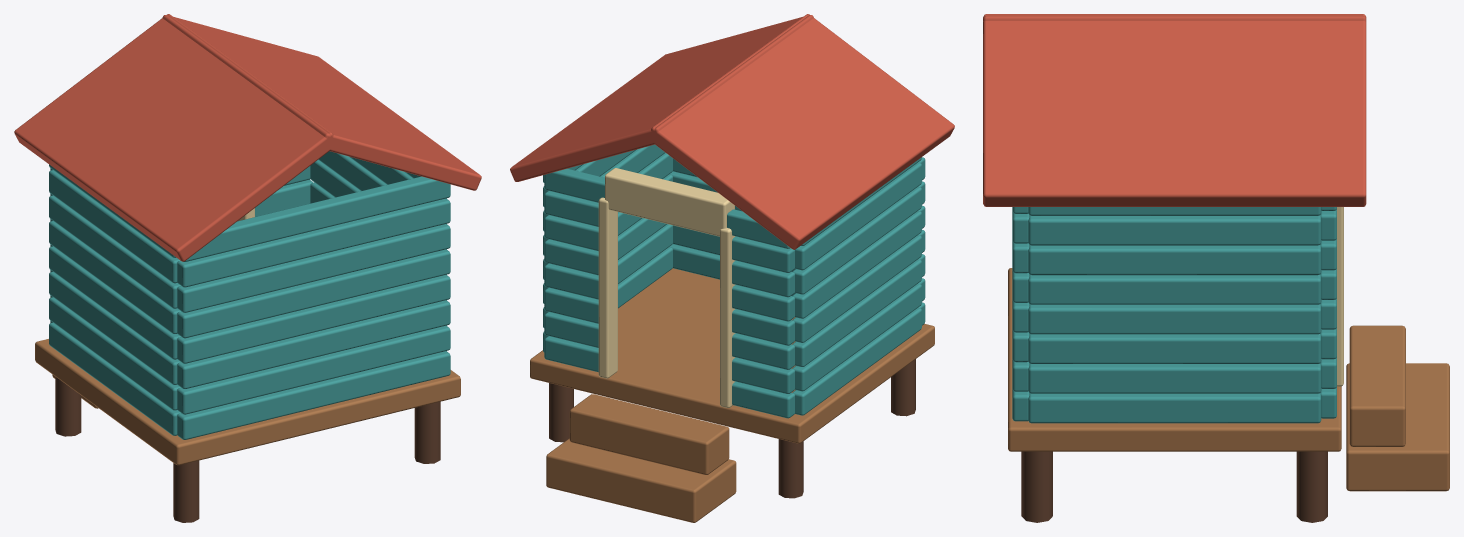
File: beach-hut.glb
The picture shows the model from 3 angles, left to right: view 1: azimuth 30°, elevation 25°; view 2: azimuth 150°, elevation 25°; view 3: azimuth 270°, elevation 25°; orthographic projection. The views are drawn at different scales.
Visible parts, largest first — view 1: roof--0.43, roof-0.43, floor, back-board-5, back-board-2, back-board-1, back-board-6, back-board-0, back-board-4, back-board-3, back-board-7, side--0.78-4 (+13 smaller); view 2: roof--0.43, floor, roof-0.43, step, upper-step, door-lintel, door-trim-0.38, side--0.78-3, side--0.78-0, side--0.78-4, side--0.78-2, side--0.78-5 (+31 smaller); view 3: roof-0.43, floor, side-0.78-0, side-0.78-3, side-0.78-5, side-0.78-6, side-0.78-1, side-0.78-4, side-0.78-2, step, upper-step, side-0.78-7 (+4 smaller).
Part boxes in pixels (x1,y1,x2,y2): roof--0.43: [14, 14, 335, 261]; roof-0.43: [162, 15, 481, 190]; floor: [35, 339, 460, 465]; back-board-5: [177, 224, 450, 312]; back-board-2: [177, 300, 450, 388]; back-board-1: [177, 325, 450, 414]; back-board-6: [177, 198, 450, 287]; back-board-0: [177, 351, 450, 439]; back-board-4: [177, 249, 450, 338]; back-board-3: [177, 275, 450, 363]; back-board-7: [184, 176, 450, 261]; side--0.78-4: [49, 221, 180, 334]; roof--0.43: [649, 14, 954, 249]; floor: [530, 268, 934, 443]; roof-0.43: [510, 15, 813, 181]; step: [546, 438, 736, 522]; upper-step: [569, 394, 729, 474]; door-lintel: [605, 168, 734, 236]; door-trim-0.38: [598, 197, 617, 378]; side--0.78-3: [792, 235, 921, 342]; side--0.78-0: [792, 307, 921, 415]; side--0.78-4: [792, 211, 921, 318]; side--0.78-2: [792, 259, 921, 366]; side--0.78-5: [792, 186, 921, 294]; roof-0.43: [983, 14, 1366, 206]; floor: [1008, 268, 1341, 451]; side-0.78-0: [1028, 393, 1321, 423]; side-0.78-3: [1028, 304, 1321, 334]; side-0.78-5: [1028, 245, 1321, 275]; side-0.78-6: [1028, 215, 1321, 245]; side-0.78-1: [1028, 363, 1321, 393]; side-0.78-4: [1028, 274, 1321, 304]; side-0.78-2: [1028, 334, 1321, 363]; step: [1346, 363, 1449, 491]; upper-step: [1349, 325, 1405, 446]; side-0.78-7: [1028, 207, 1321, 215].
Size of the model in its own units: 1.82 by 2.12 by 2.07.
